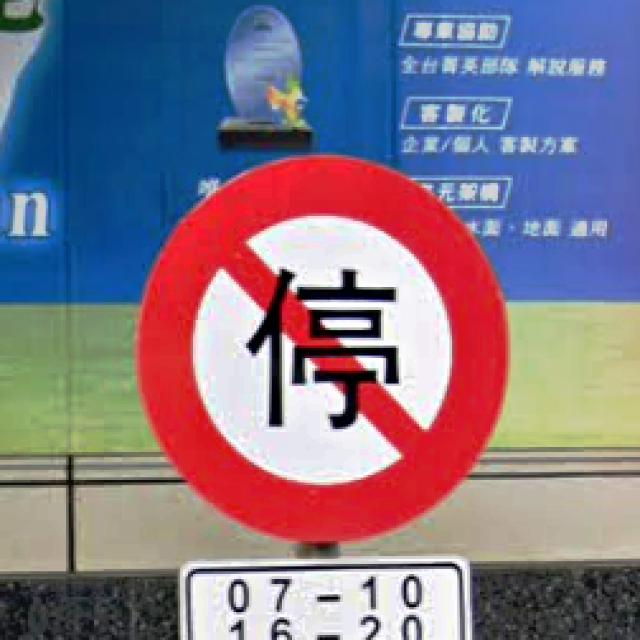nopark: (132, 150, 511, 543)
